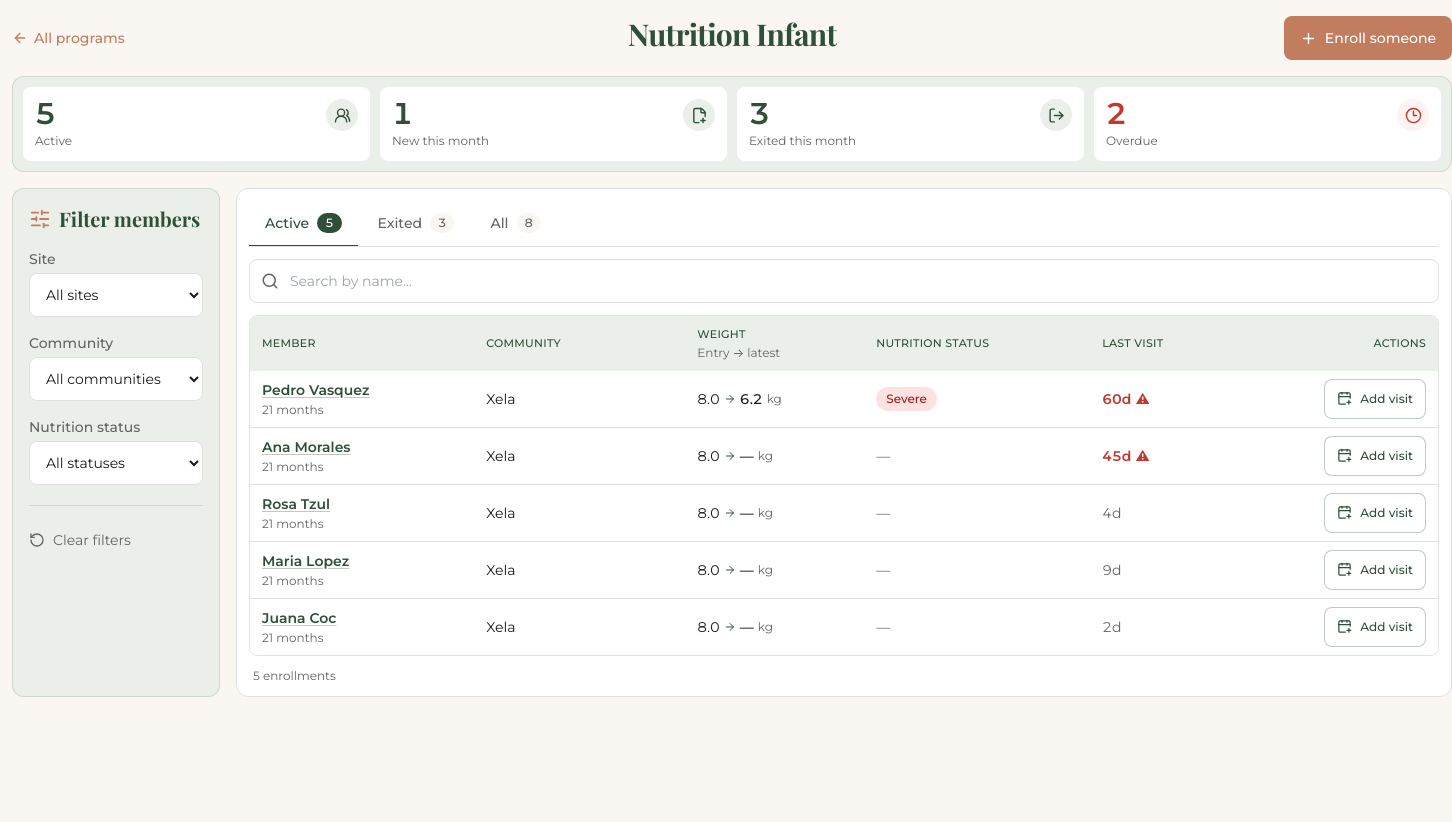
Test: ProgramRosterPage › filters the roster by the search box and keeps it in the query string
Expected: the link "Pedro Vasquez" is shown, [262,380,369,398]
In the search field labelled "Search": coordinates (844, 281) [249,259,1439,303], type "Ana"
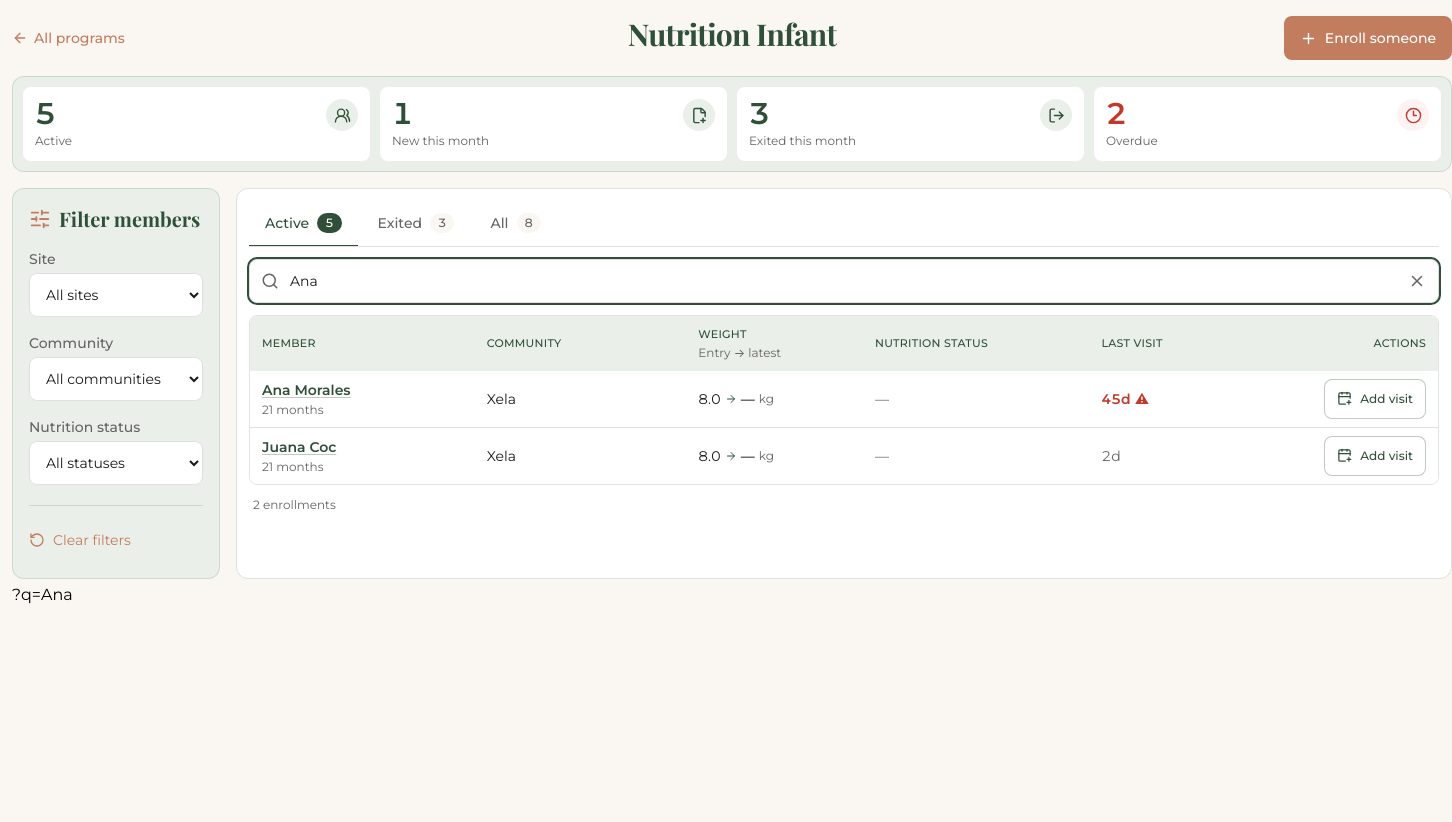
Expected: the link "Ana Morales" is shown, [262,380,351,398]
Expected: the link "Pedro Vasquez" is gone
Expected: the text with test id "route-query" reads "?q=Ana", [12,585,73,604]
